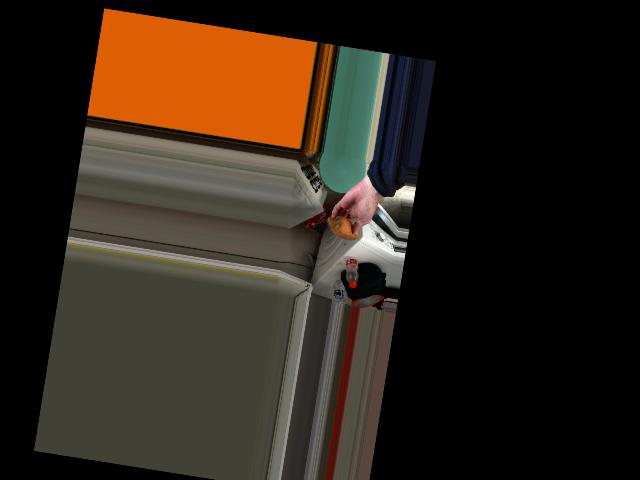sweet_potato: (328, 211, 360, 241)
